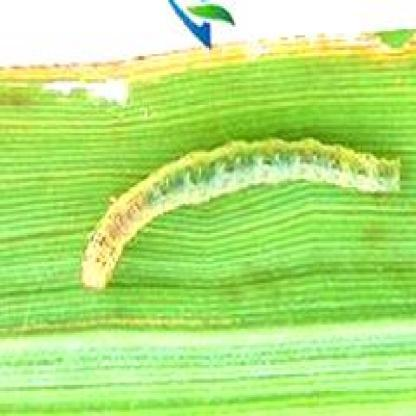leaf-folder: (70, 116, 402, 299)
